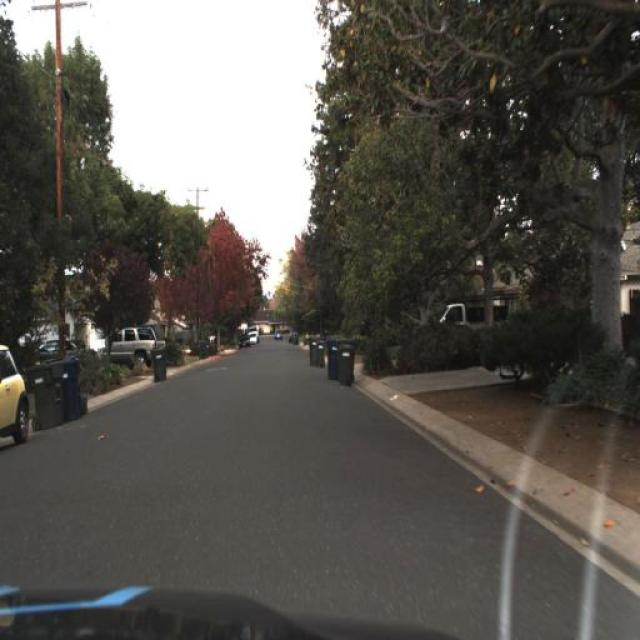car: (1, 338, 30, 452), (102, 326, 176, 369), (238, 332, 252, 349)
